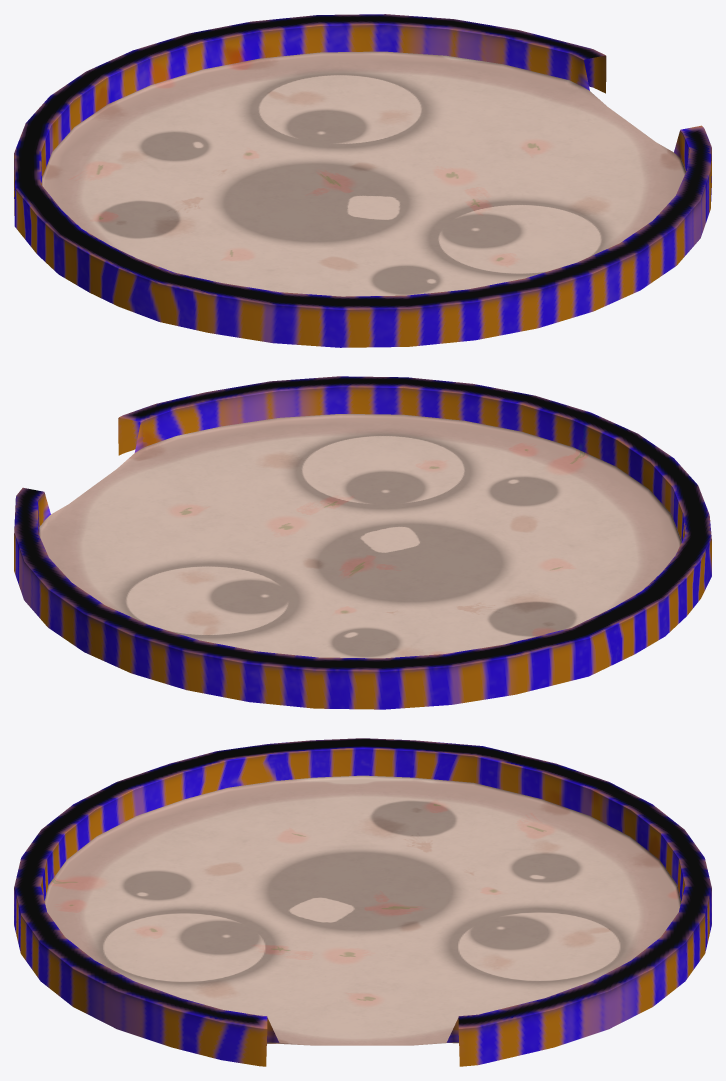
The model's file is CircusTent_MainRing.fbx.
3 renders of one model, top to bottom at view 1: azimuth 30°, elevation 25°; view 2: azimuth 150°, elevation 25°; view 3: azimuth 270°, elevation 25°, orthographic.
Parts seen in each view (by area): view 1: CircusTent_Ring; view 2: CircusTent_Ring; view 3: CircusTent_Ring.
Part boxes in pixels (<box>): CircusTent_Ring: <box>14,14,711,347</box>; CircusTent_Ring: <box>14,376,711,709</box>; CircusTent_Ring: <box>14,738,711,1066</box>.
Bounding box in the file's own units: 1705 × 110 × 1734.
